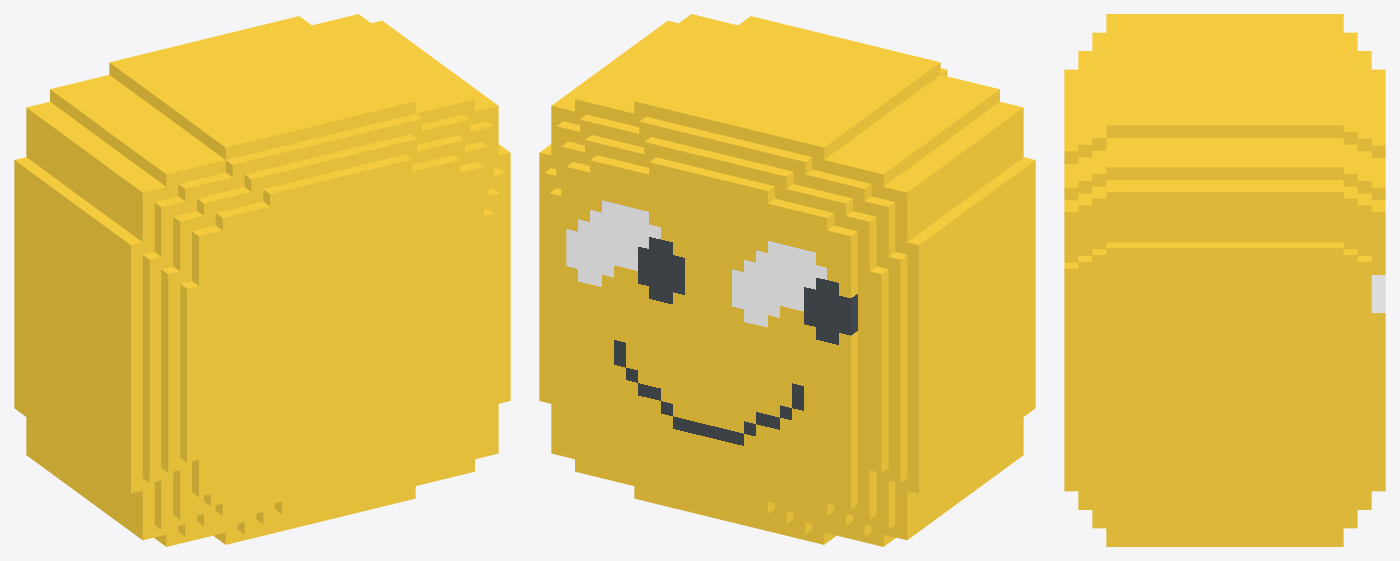
3 views of the same model, side by side, from view 1: azimuth 30°, elevation 25°; view 2: azimuth 150°, elevation 25°; view 3: azimuth 270°, elevation 25° (orthographic).
Visible parts, largest first — view 1: Object; view 2: Object; view 3: Object.
Part boxes in pixels (left/top/right/bottom): Object: left=14, top=14, right=510, bottom=546; Object: left=539, top=14, right=1035, bottom=546; Object: left=1064, top=14, right=1385, bottom=546.
Size of the model in its own units: 32 by 32 by 23.
1 material, 1 textured.
